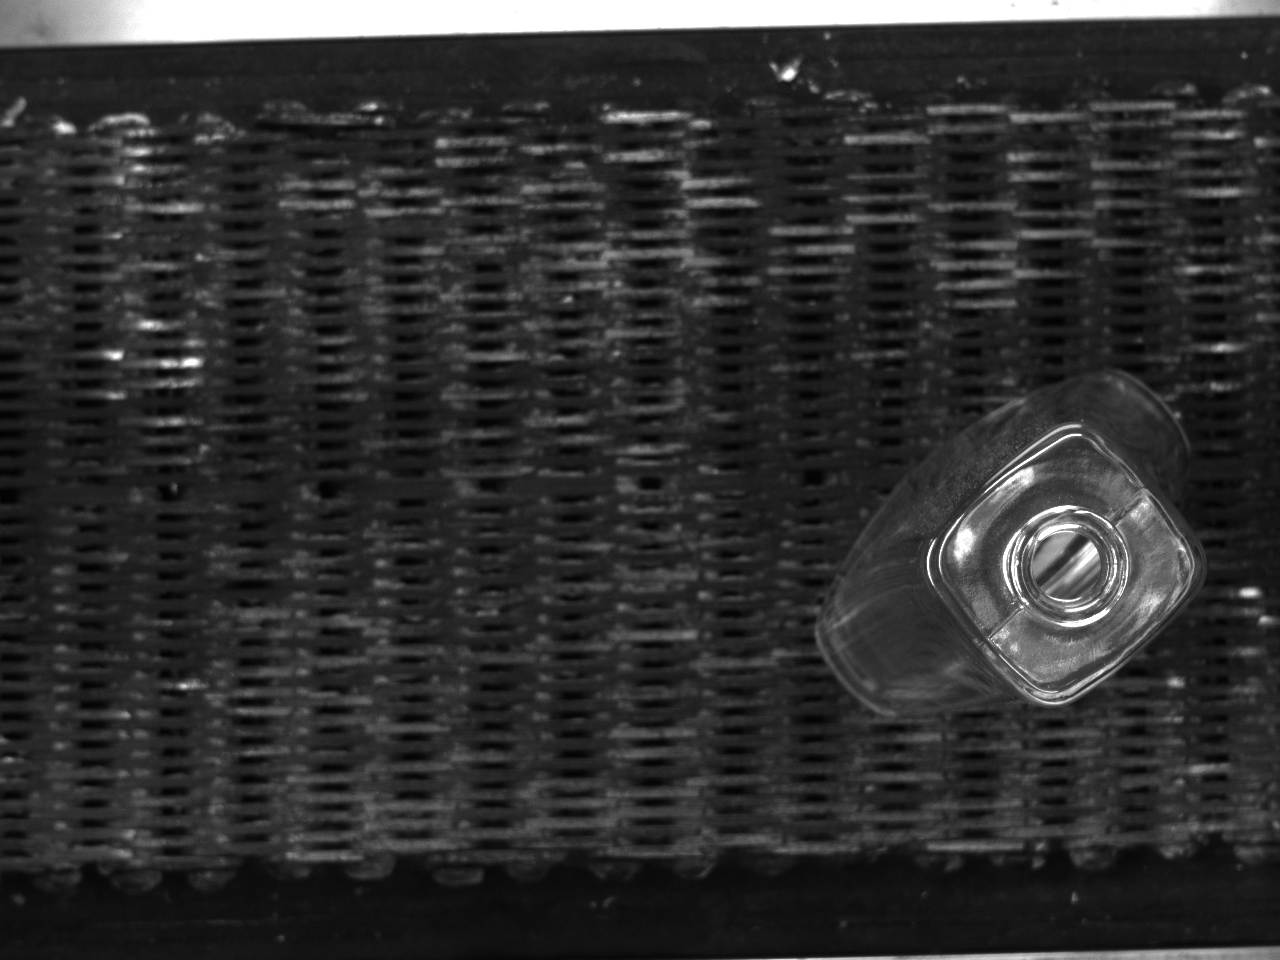bottleneck: (1012, 504, 1129, 625)
